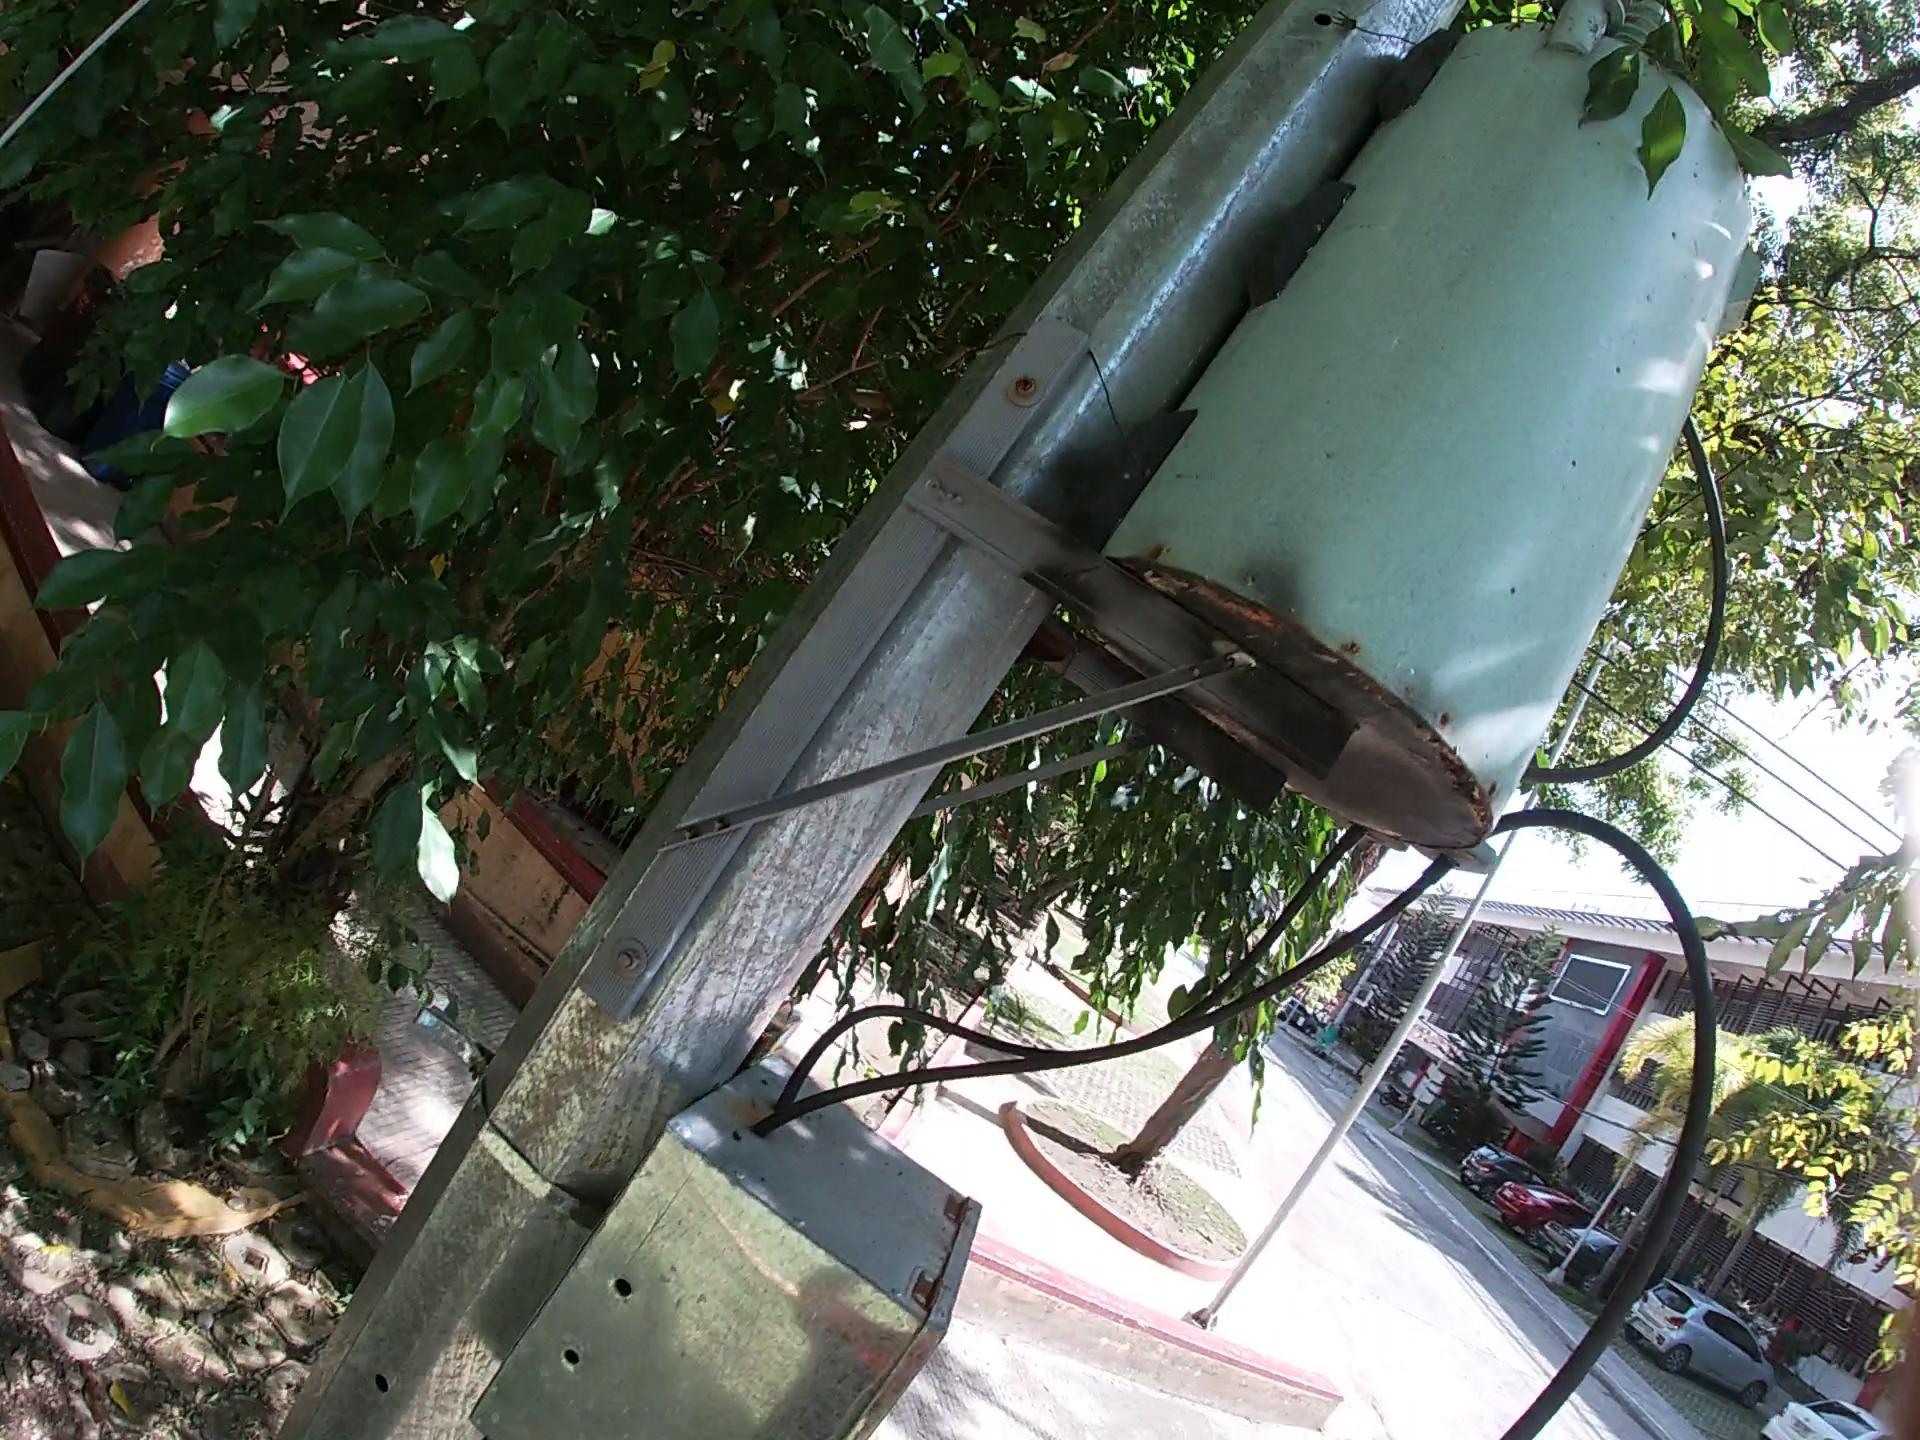branch with leaves: (1545, 2, 1834, 200)
